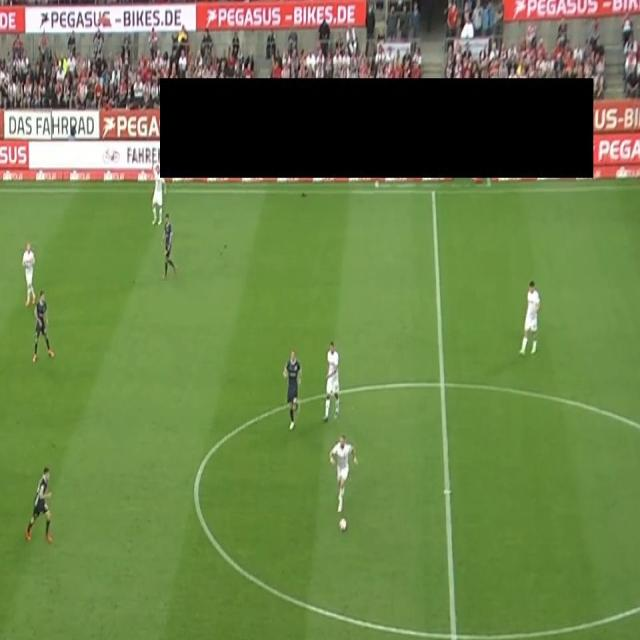ball: (338, 516, 348, 533)
